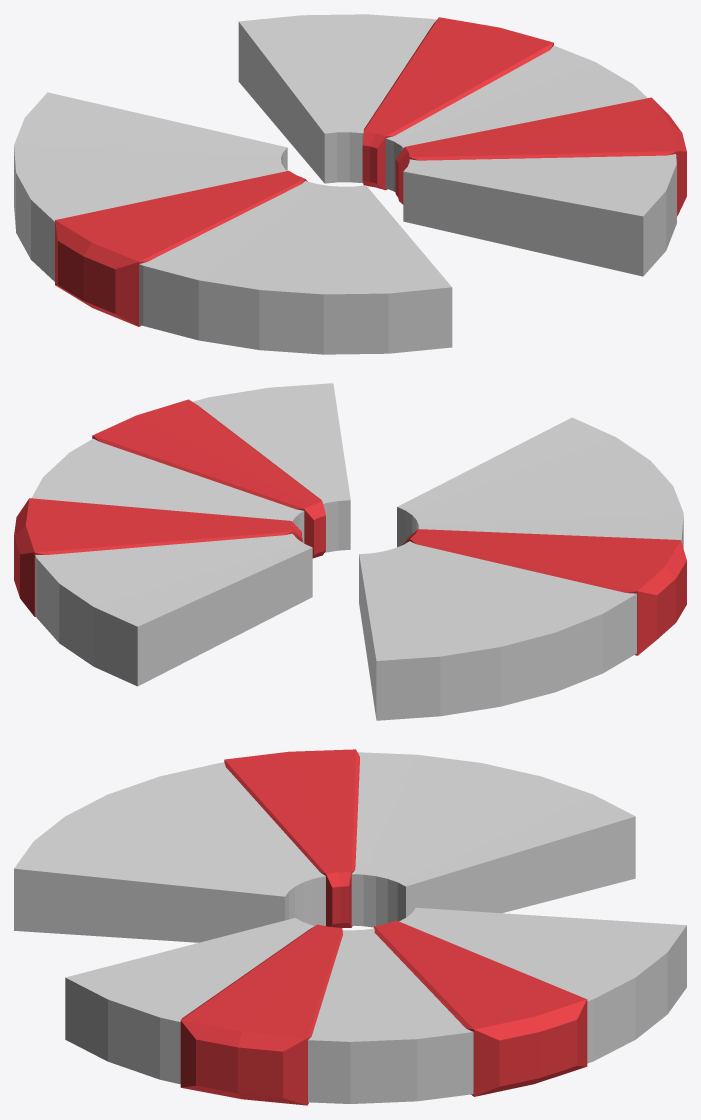
Rendered from platform_doublegap3.glb.
3 renders of one model, top to bottom at view 1: azimuth 30°, elevation 25°; view 2: azimuth 150°, elevation 25°; view 3: azimuth 270°, elevation 25°, orthographic. The views are drawn at different scales.
Visible parts, largest first — view 1: Platform_DoubleGap3, Danger.026, Danger.016, Danger.025; view 2: Platform_DoubleGap3, Danger.026, Danger.016, Danger.025; view 3: Platform_DoubleGap3, Danger.025, Danger.016, Danger.026.
Part boxes in pixels (x1,y1,x2,y2): Platform_DoubleGap3: (14,14,676,354); Danger.026: (55,170,307,326); Danger.016: (362,17,553,190); Danger.025: (395,97,686,216); Platform_DoubleGap3: (31,383,683,720); Danger.026: (401,529,686,655); Danger.016: (14,498,302,616); Danger.025: (92,399,325,558); Platform_DoubleGap3: (14,752,686,1103); Danger.025: (180,924,342,1105); Danger.016: (374,920,587,1096); Danger.026: (224,749,359,927).
Bounding box in the file's own units: 2.04 × 0.2167 × 1.96.
